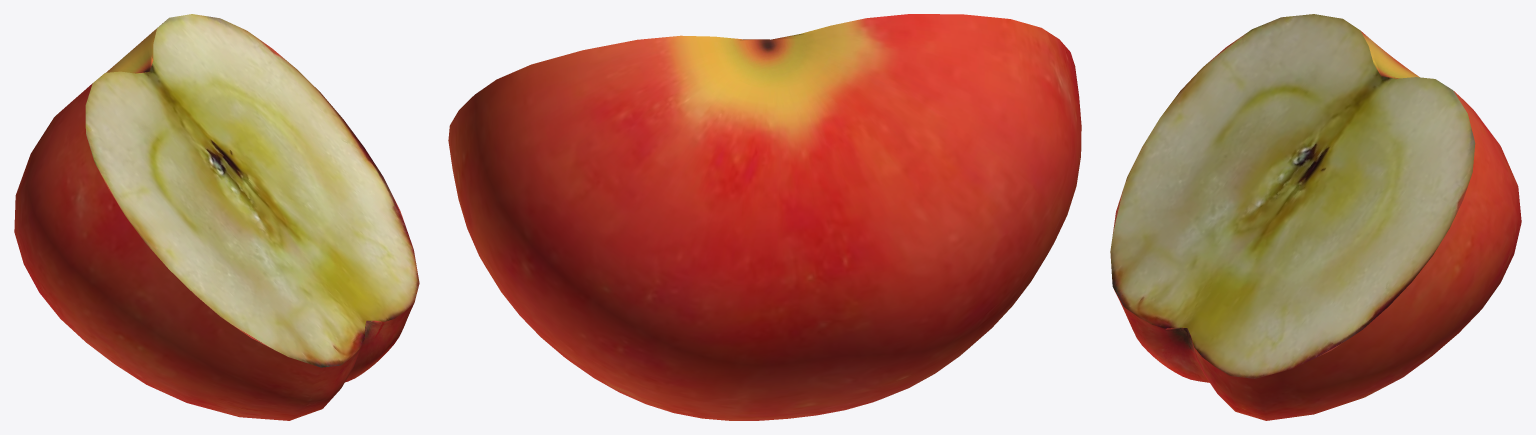
The model's file is realapplehalf.glb.
The picture shows the model from 3 angles, left to right: view 1: azimuth 30°, elevation 25°; view 2: azimuth 150°, elevation 25°; view 3: azimuth 270°, elevation 25°; orthographic projection. The views are drawn at different scales.
Parts seen in each view (by area): view 1: Apples_4; view 2: Apples_4; view 3: Apples_4.
Part boxes in pixels (<box>): Apples_4: <box>14,14,419,420</box>; Apples_4: <box>448,14,1081,420</box>; Apples_4: <box>1110,14,1521,420</box>.
Size of the model in its own units: 0.0881 by 0.0712 by 0.086.
Materials: 1 (1 with a texture image).
